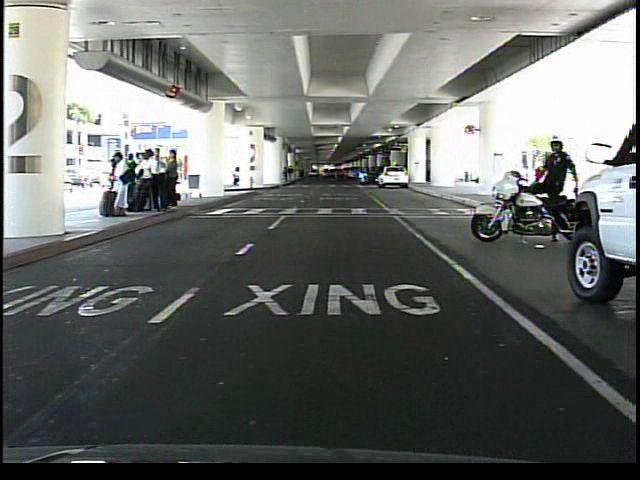person: (533, 130, 578, 250)
